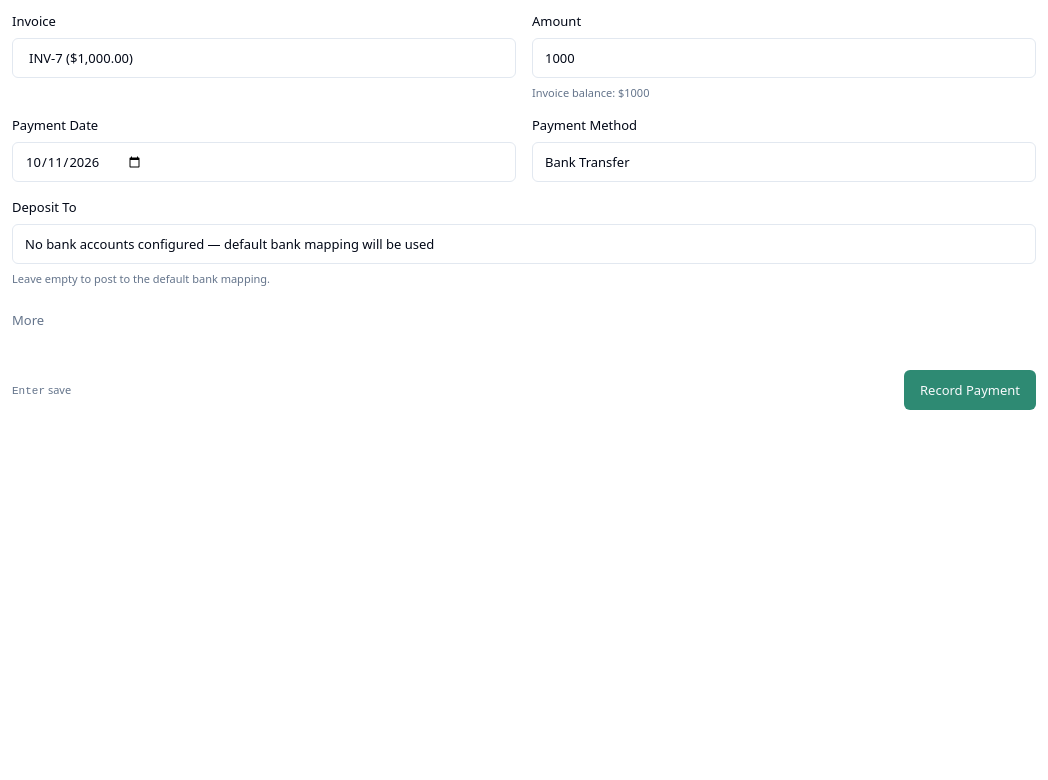
Test: RecordPaymentForm payment difference (#494) › does not offer the write-off when the difference exceeds the tolerance
The image size is (1048, 780).
Replace the text in the number field labelled "Amount" with "990" at (784, 58), box [532,38,1036,78]
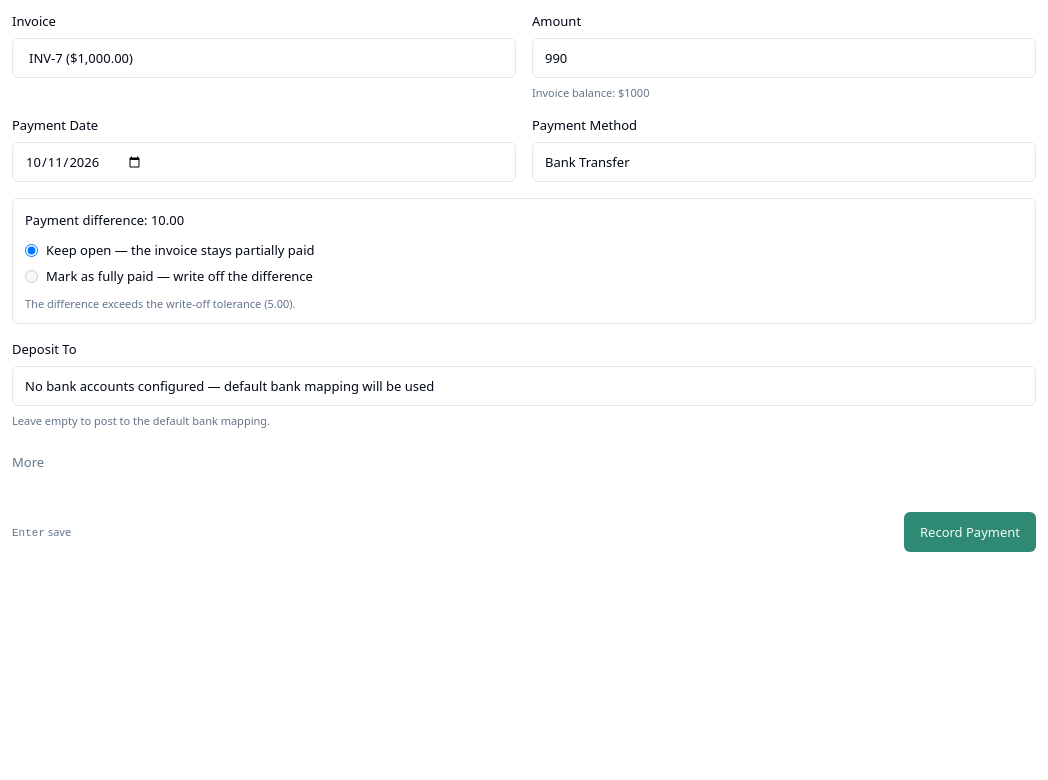
Check: the element with test id "payment-difference" is shown, box [12,198,1036,324]
Check: the text "The difference exceeds the write-off tolerance (5.00)." is shown, box [25,296,296,311]
Check: the radio button labelled "Mark as fully paid — write off the difference" is disabled, box [25,270,38,282]
